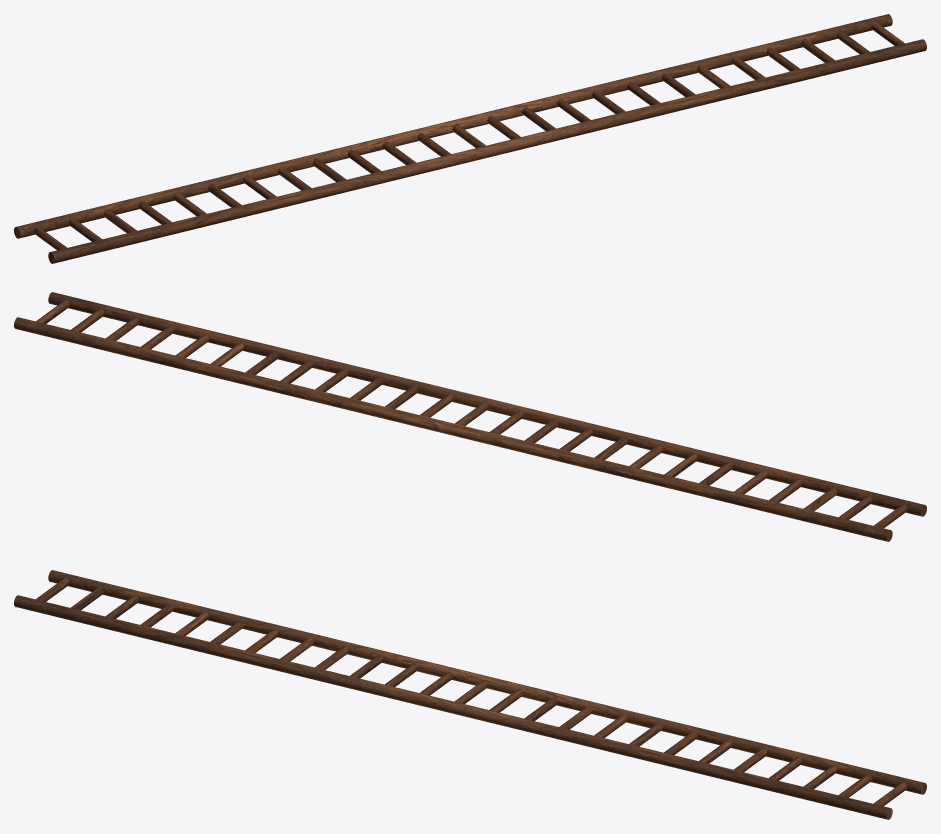
File: Ladder.fbx
3 views of the same model, one above another, from view 1: azimuth 30°, elevation 25°; view 2: azimuth 150°, elevation 25°; view 3: azimuth 330°, elevation 25° (orthographic).
Parts seen in each view (by area): view 1: RebrikDlhy; view 2: RebrikDlhy; view 3: RebrikDlhy.
Part boxes in pixels (x1=…): RebrikDlhy: x1=14, y1=14, x2=926, y2=263; RebrikDlhy: x1=14, y1=292, x2=926, y2=541; RebrikDlhy: x1=14, y1=570, x2=926, y2=819.
Bounding box in the file's own units: 1606 × 19.27 × 129.
